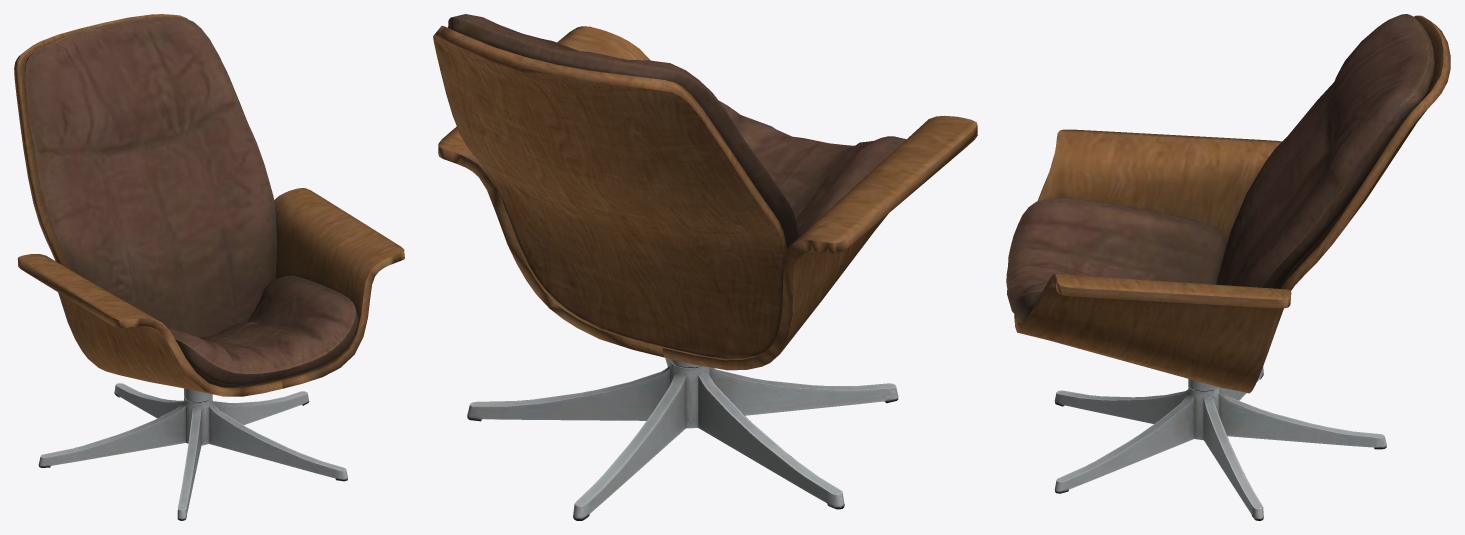
The model's file is ph_mid_century_lounge_chair.glb.
The picture shows the model from 3 angles, left to right: view 1: azimuth 30°, elevation 25°; view 2: azimuth 150°, elevation 25°; view 3: azimuth 270°, elevation 25°; orthographic projection. The views are drawn at different scales.
Visible parts, largest first — view 1: mid_century_lounge_chair; view 2: mid_century_lounge_chair; view 3: mid_century_lounge_chair.
Boxes of the visible parts, x1,y1,x2,y2 form: mid_century_lounge_chair: [14, 14, 404, 520]; mid_century_lounge_chair: [433, 14, 977, 520]; mid_century_lounge_chair: [1006, 14, 1450, 520].
Size of the model in its own units: 1.01 by 1.17 by 1.19.
Materials: 1 (1 with a texture image).
